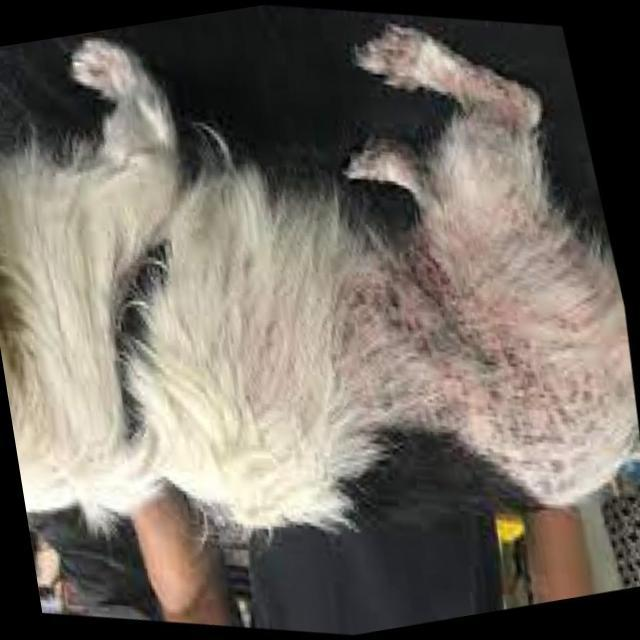allergic dermatitis: (331, 262, 599, 470)
